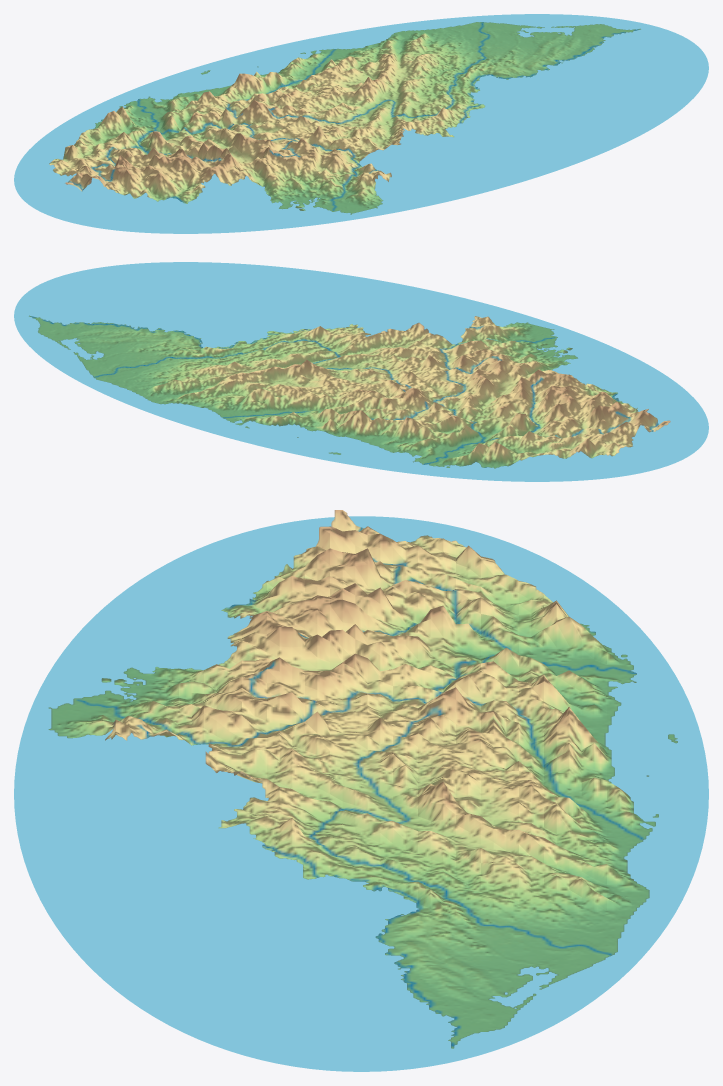
Rendered from HND-terrain.glb.
3 views of the same model, one above another, from view 1: azimuth 30°, elevation 25°; view 2: azimuth 150°, elevation 25°; view 3: azimuth 270°, elevation 25° (orthographic). The views are drawn at different scales.
Visible parts, largest first — view 1: Relevo com hidrografia; view 2: Relevo com hidrografia; view 3: Relevo com hidrografia.
Boxes of the visible parts, box(x1,y1,x2,y2) form: Relevo com hidrografia: box(14, 14, 708, 233); Relevo com hidrografia: box(14, 262, 708, 481); Relevo com hidrografia: box(14, 510, 708, 1071).
Size of the model in its own units: 1.76 by 0.0673 by 0.9286.
2 materials, 1 textured.
